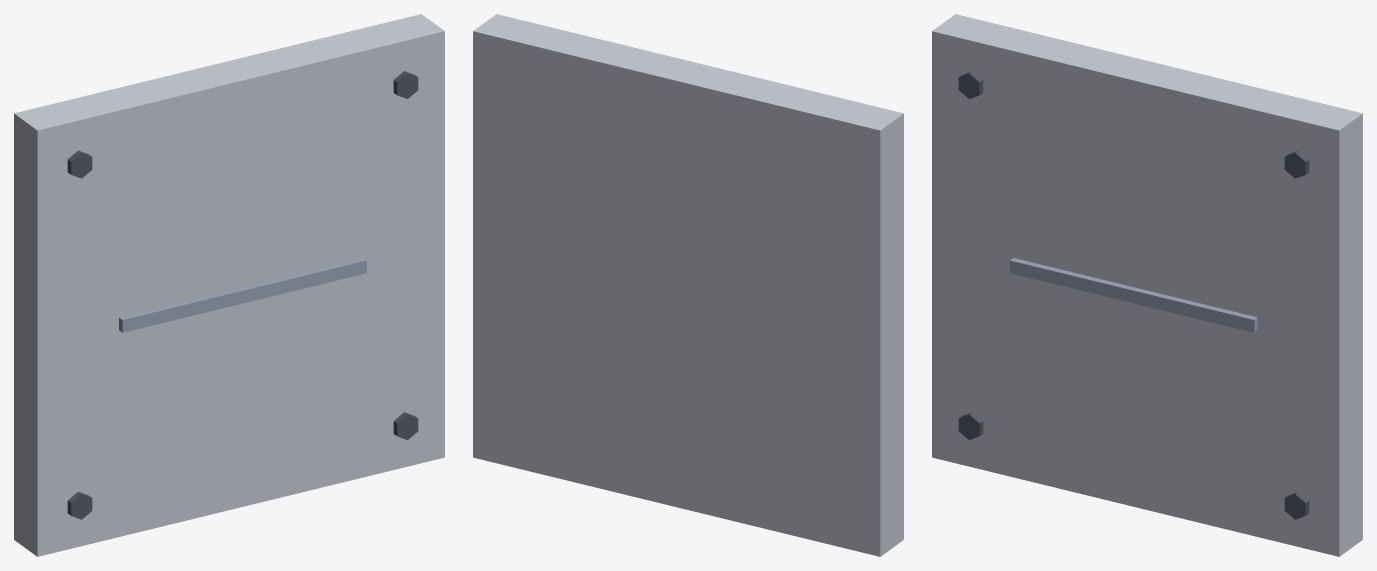
The model's file is stationpack-hull-panel.glb.
The picture shows the model from 3 angles, left to right: view 1: azimuth 30°, elevation 25°; view 2: azimuth 150°, elevation 25°; view 3: azimuth 330°, elevation 25°; orthographic projection.
Visible parts, largest first — view 1: hull_panel; view 2: hull_panel; view 3: hull_panel.
Part boxes in pixels (x1,y1,x2,y2): hull_panel: [14, 14, 444, 556]; hull_panel: [473, 14, 903, 556]; hull_panel: [932, 14, 1362, 556].
Size of the model in its own units: 2 by 2 by 0.23.
